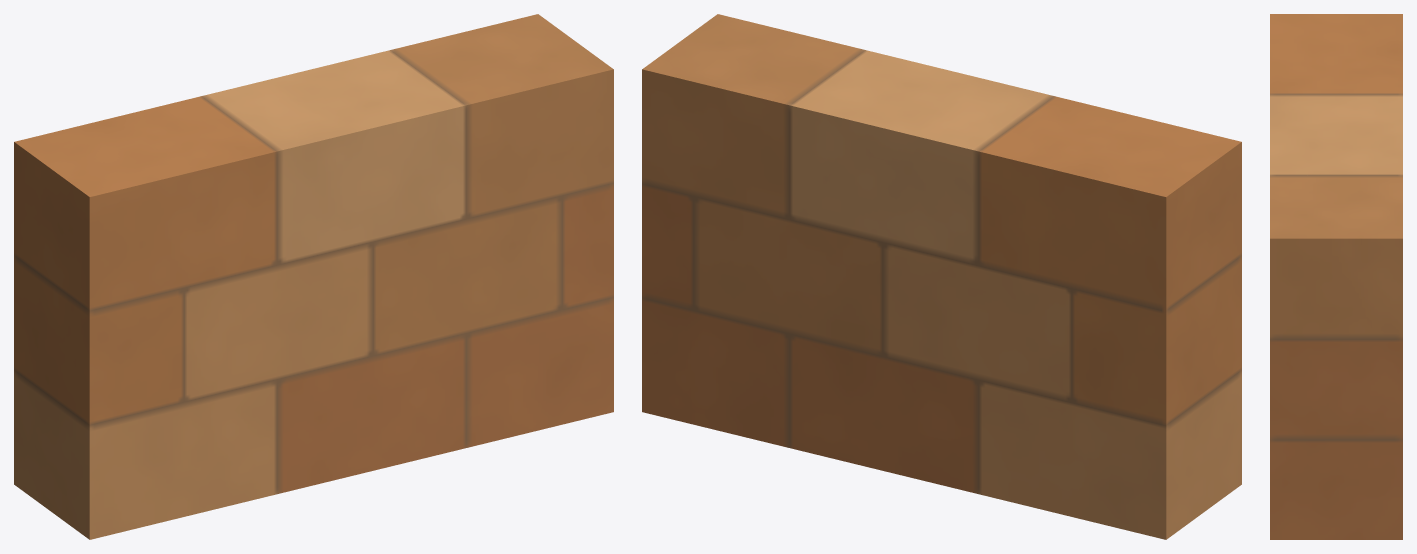
3 views of the same model, side by side, from view 1: azimuth 30°, elevation 25°; view 2: azimuth 150°, elevation 25°; view 3: azimuth 270°, elevation 25° (orthographic). The views are drawn at different scales.
Visible parts, largest first — view 1: ss13-short-sandstone-wall; view 2: ss13-short-sandstone-wall; view 3: ss13-short-sandstone-wall.
Boxes of the visible parts, box(x1,y1,x2,y2) form: ss13-short-sandstone-wall: box(14, 14, 613, 539); ss13-short-sandstone-wall: box(642, 14, 1241, 539); ss13-short-sandstone-wall: box(1270, 14, 1402, 539).
Bounding box in the file's own units: 200 × 125 × 50.
